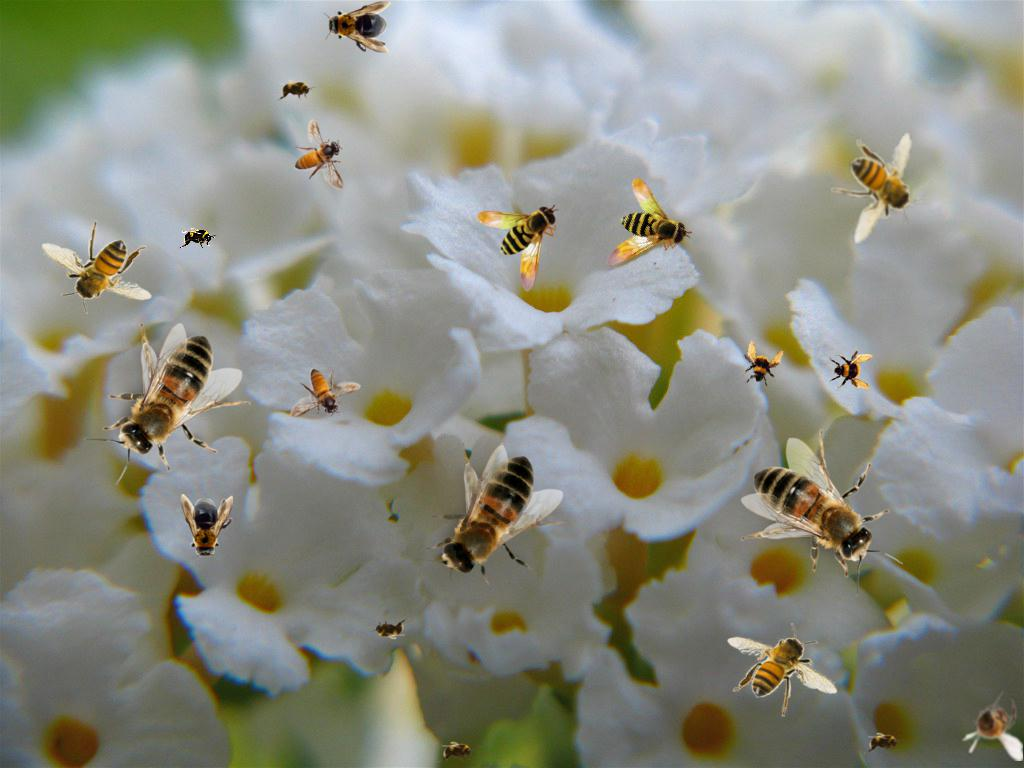Bee: (84, 323, 251, 485), (406, 443, 573, 605), (741, 429, 903, 596), (575, 170, 695, 290), (41, 220, 152, 314), (727, 623, 838, 717), (831, 133, 925, 244), (477, 204, 559, 292), (962, 691, 1023, 761), (294, 119, 344, 190), (290, 368, 361, 418), (323, 1, 391, 53), (181, 494, 233, 562), (733, 338, 787, 392), (829, 347, 873, 391), (178, 227, 218, 249), (864, 732, 904, 754), (369, 618, 409, 640), (276, 79, 316, 101), (438, 741, 478, 763)
